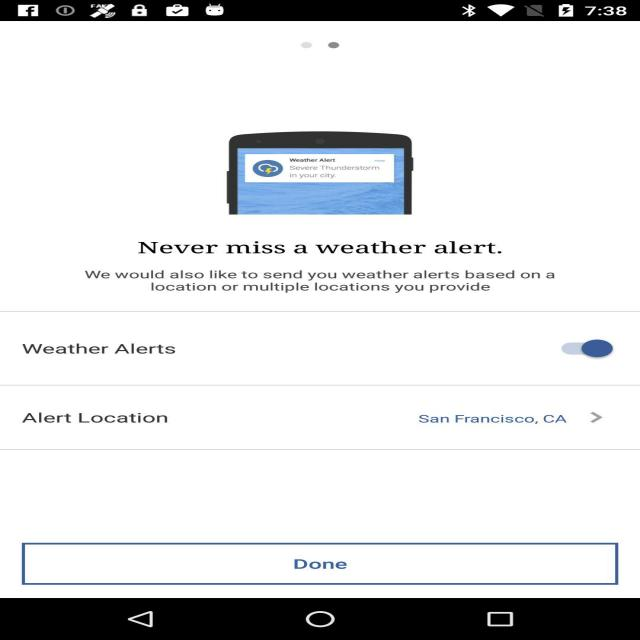button: (15, 534, 633, 587), (389, 399, 633, 441), (542, 324, 638, 372)
icon: (256, 33, 409, 56)
image: (115, 114, 540, 224)
text: (46, 265, 584, 293), (107, 234, 558, 259), (8, 402, 230, 441), (15, 326, 207, 371)
